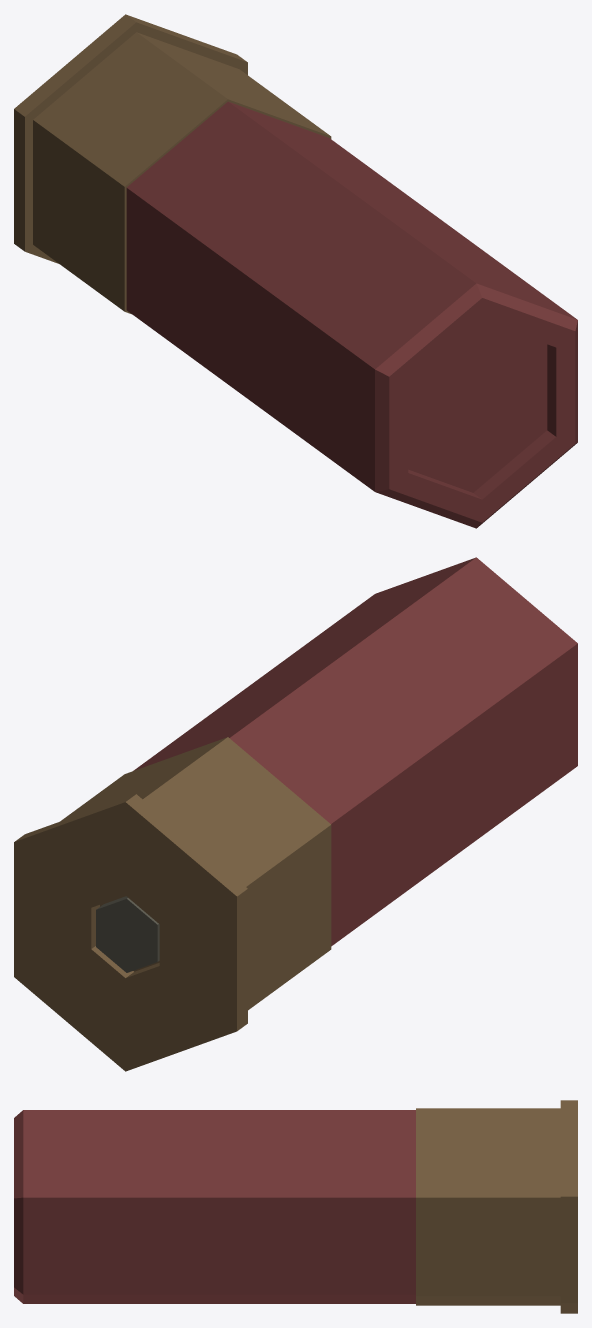
The model's file is SM_Genesis_Arms_Gen_12_Casing.fbx.
3 views of the same model, one above another, from view 1: azimuth 30°, elevation 25°; view 2: azimuth 150°, elevation 25°; view 3: azimuth 270°, elevation 25° (orthographic). The views are drawn at different scales.
Visible parts, largest first — view 1: SM_Genesis_Arms_Gen_12_Casing; view 2: SM_Genesis_Arms_Gen_12_Casing; view 3: SM_Genesis_Arms_Gen_12_Casing.
Part boxes in pixels (x1,y1,x2,y2): SM_Genesis_Arms_Gen_12_Casing: [14, 14, 577, 528]; SM_Genesis_Arms_Gen_12_Casing: [14, 557, 577, 1071]; SM_Genesis_Arms_Gen_12_Casing: [14, 1100, 577, 1313].
Size of the model in its own units: 2.05 by 2.37 by 5.68.
